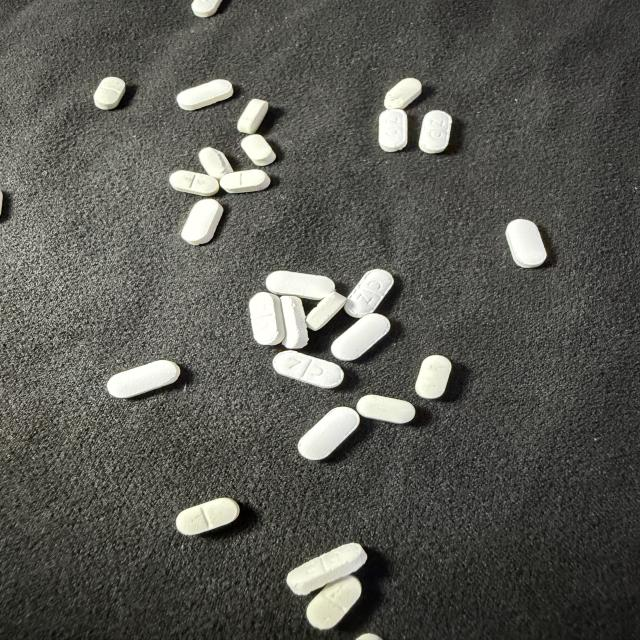pill: (287, 543, 367, 595), (298, 407, 359, 460), (307, 576, 361, 629), (107, 360, 180, 398), (331, 314, 390, 360), (273, 351, 343, 388), (176, 498, 239, 535), (345, 269, 393, 317), (266, 271, 335, 300), (506, 219, 546, 267), (249, 292, 285, 345), (181, 199, 223, 244), (177, 80, 233, 110), (356, 395, 415, 423), (416, 355, 451, 399), (307, 291, 346, 330), (281, 296, 308, 349), (419, 111, 452, 153), (170, 170, 218, 196), (220, 169, 270, 193), (384, 78, 422, 109), (379, 109, 407, 151), (199, 147, 233, 179), (241, 134, 275, 166), (238, 99, 268, 134), (94, 77, 125, 109), (191, 0, 221, 17), (356, 634, 382, 639), (0, 191, 3, 215)
